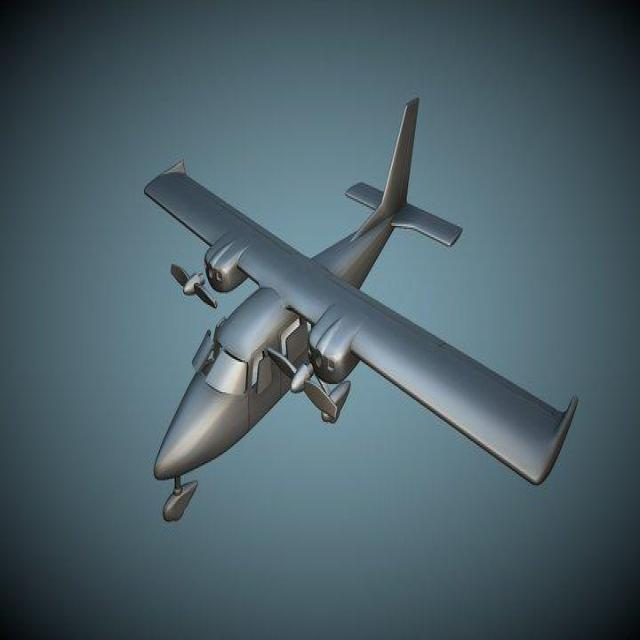Without deffect: (122, 77, 583, 574)
